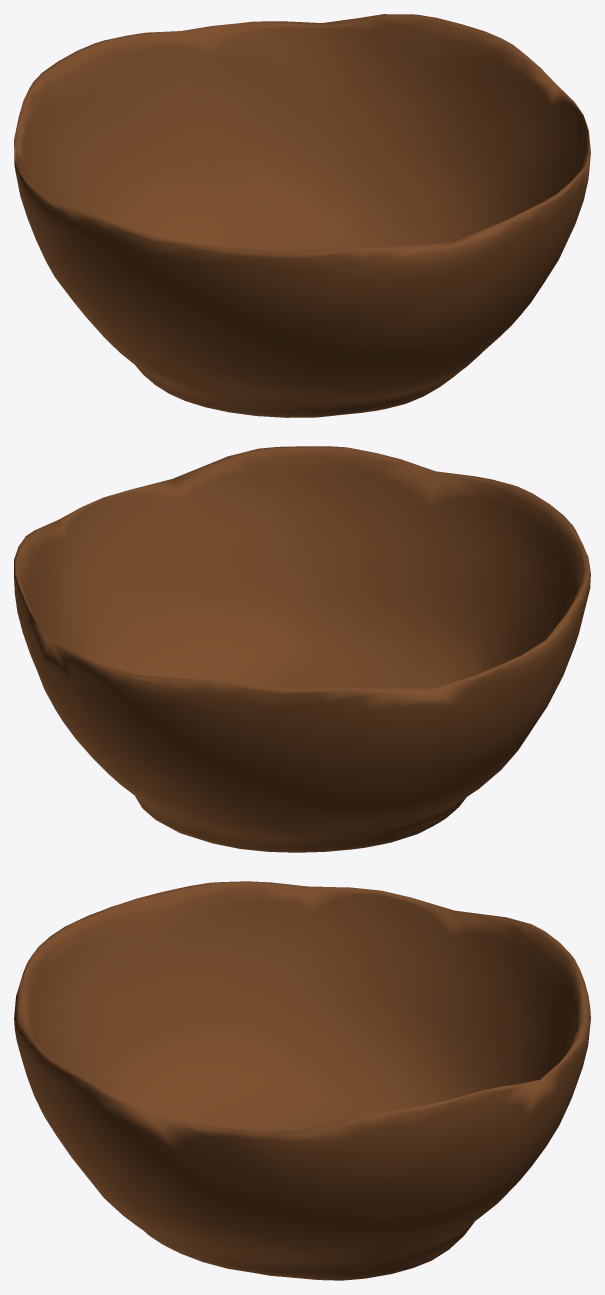
The model's file is Cuenco.obj.
The picture shows the model from 3 angles, top to bottom: view 1: azimuth 30°, elevation 25°; view 2: azimuth 150°, elevation 25°; view 3: azimuth 270°, elevation 25°; orthographic projection. The views are drawn at different scales.
Visible parts, largest first — view 1: Circle; view 2: Circle; view 3: Circle.
Boxes of the visible parts, bbox=[...] form: Circle: bbox=[14, 14, 590, 417]; Circle: bbox=[14, 446, 590, 852]; Circle: bbox=[14, 881, 590, 1280].
Bounding box in the file's own units: 3.17 × 1.33 × 3.18.
